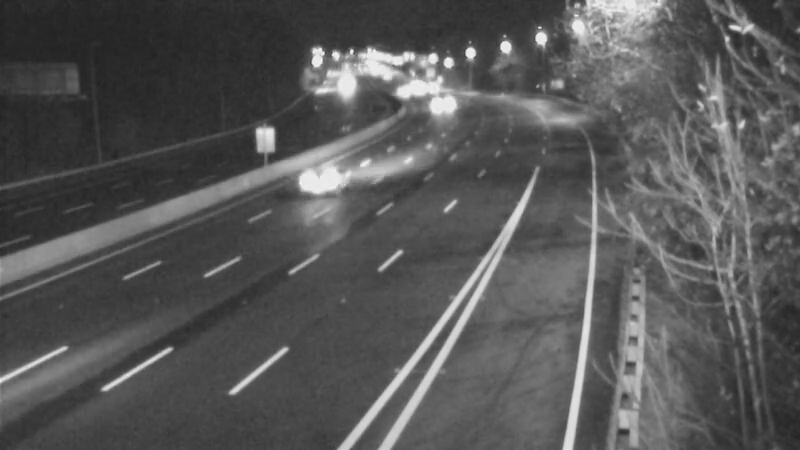vehicle: (276, 137, 356, 217), (374, 67, 424, 117), (418, 82, 468, 132)
